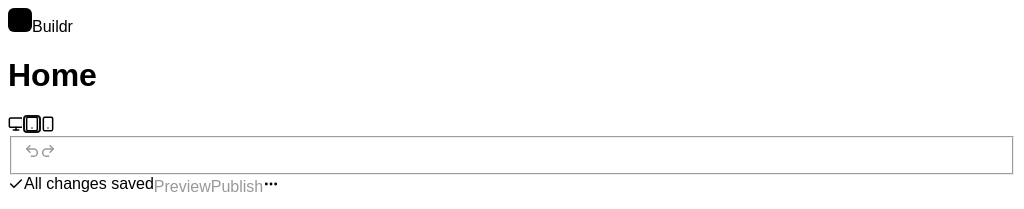
Test: Toolbar › shows the breakpoints as icon buttons with the width in the tooltip
Step 1. Focus the button named "Tablet" → (32, 124), box 24,116 -> 40,132
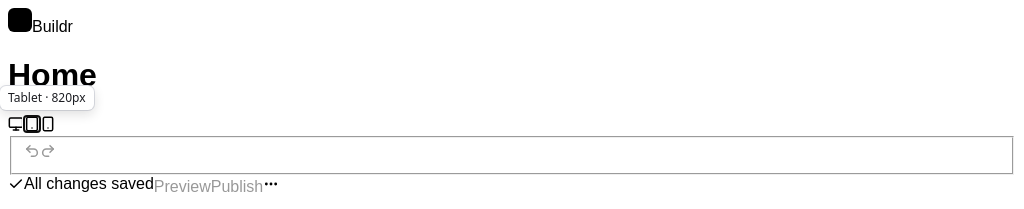
Check: the tooltip "Tablet · 820px" is shown, box 0,86 -> 94,110
